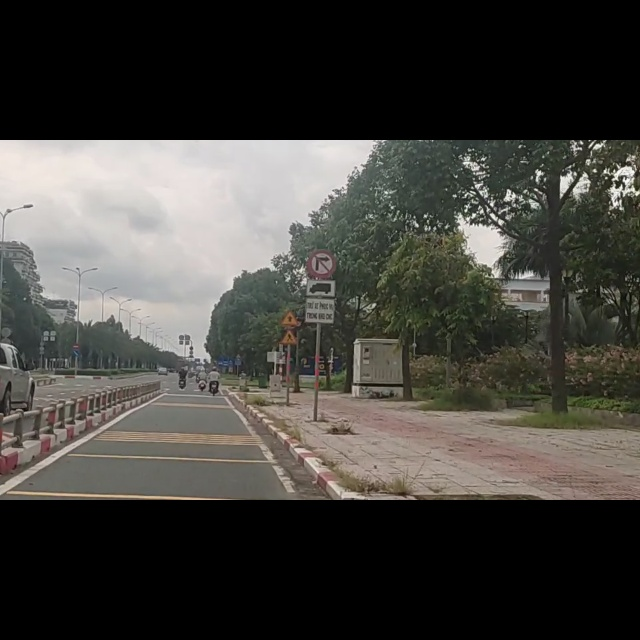bien_cam: (305, 248, 336, 326), (306, 193, 337, 248), (280, 302, 299, 332), (280, 335, 299, 364)
